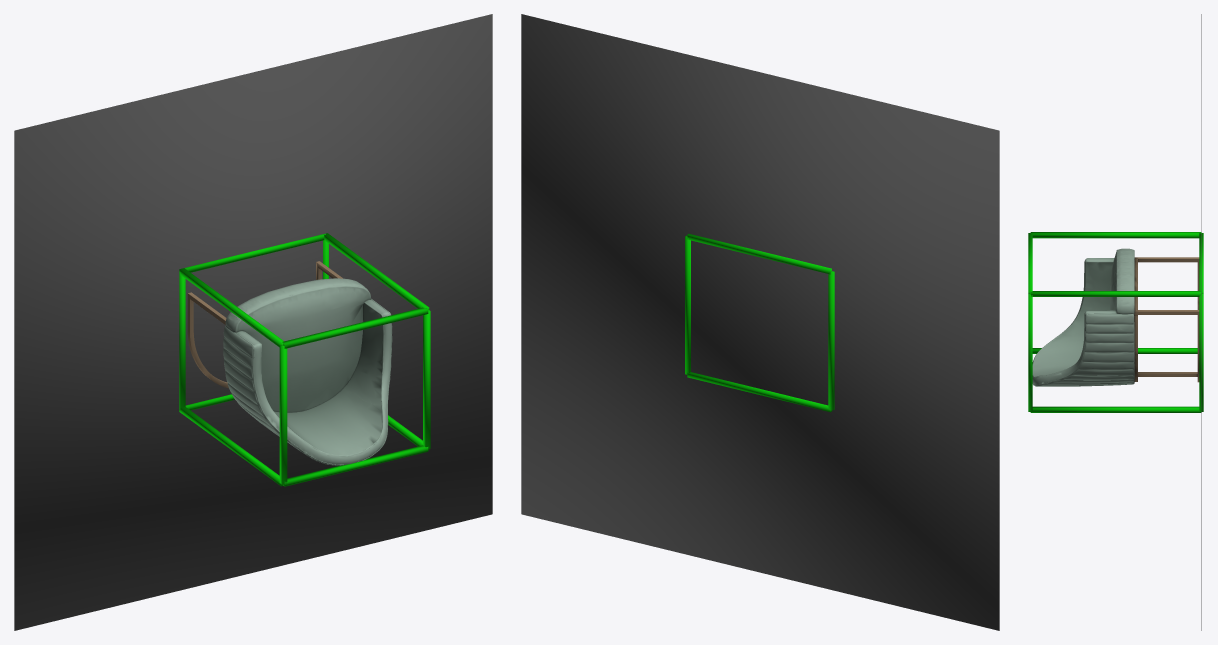
3 views of the same model, side by side, from view 1: azimuth 30°, elevation 25°; view 2: azimuth 150°, elevation 25°; view 3: azimuth 270°, elevation 25° (orthographic). The views are drawn at different scales.
Size of the model in its own units: 2 by 2 by 0.7565.
